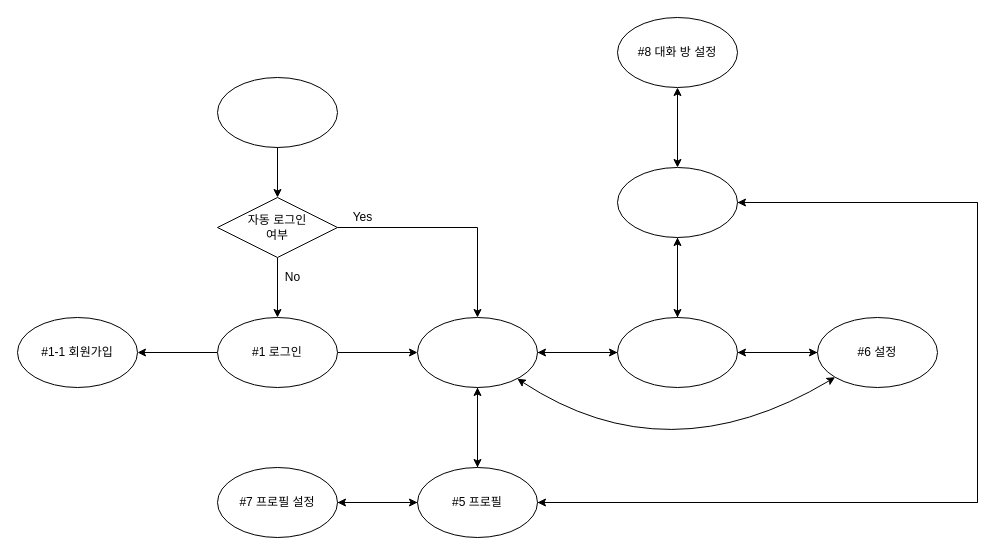
Some shapes in this 1003 by 555 pixel diagram are drawn without their labels. Each missing label, with the centre of its shape:
#2 친구창: point (477, 352)
#3 대화 목록: point (677, 352)
#4 대화 방: point (677, 202)
앱 실행: point (277, 112)
